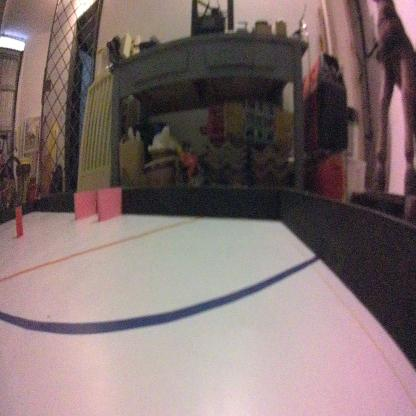magenta: (95, 182, 121, 224), (72, 185, 99, 220)
red: (14, 202, 24, 240)
